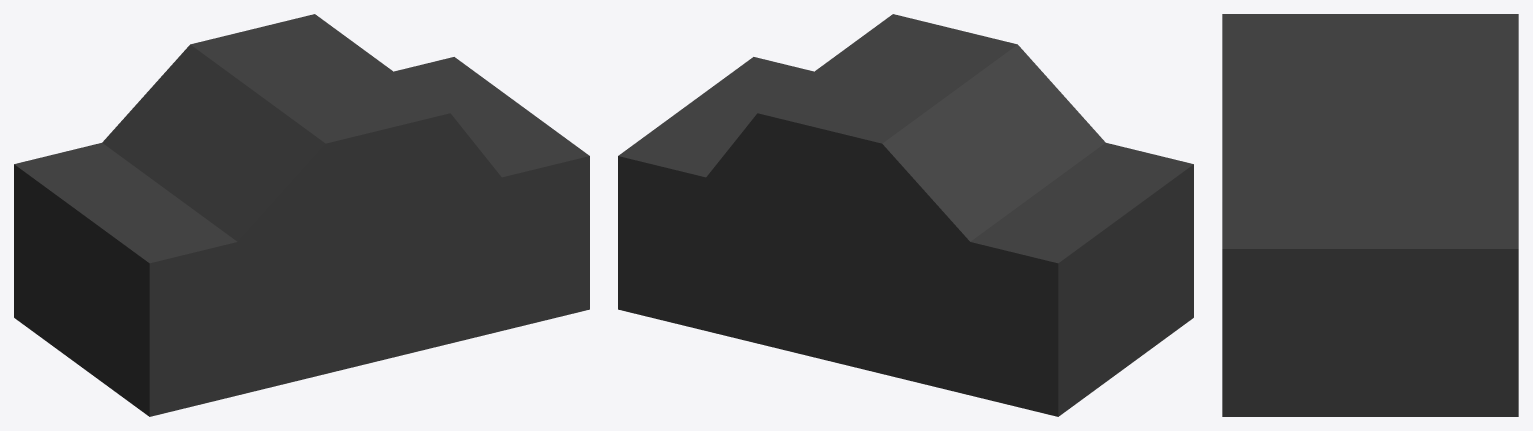
File: police.fbx
3 renders of one model, left to right at view 1: azimuth 30°, elevation 25°; view 2: azimuth 150°, elevation 25°; view 3: azimuth 270°, elevation 25°, orthographic. The views are drawn at different scales.
Parts seen in each view (by area): view 1: Cube.001; view 2: Cube.001; view 3: Cube.001.
Boxes of the visible parts, x1,y1,x2,y2 form: Cube.001: (14,14,589,416); Cube.001: (618,14,1193,416); Cube.001: (1222,14,1518,416).
Bounding box in the file's own units: 30 × 15 × 16.
